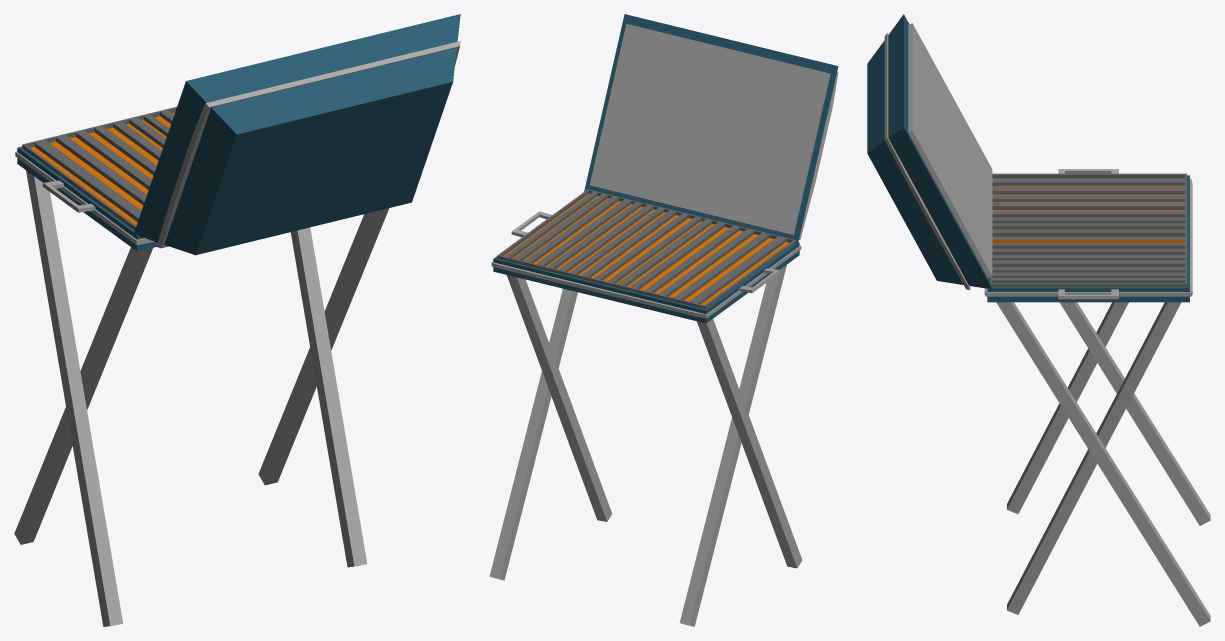
The model's file is Grill10.fbx.
3 views of the same model, side by side, from view 1: azimuth 30°, elevation 25°; view 2: azimuth 150°, elevation 25°; view 3: azimuth 270°, elevation 25° (orthographic). The views are drawn at different scales.
Parts seen in each view (by area): view 1: pCube9; view 2: pCube9; view 3: pCube9.
Part boxes in pixels (bbox=[...]): pCube9: bbox=[14, 14, 460, 626]; pCube9: bbox=[489, 14, 838, 626]; pCube9: bbox=[867, 14, 1210, 626].
Bounding box in the file's own units: 20.53 × 37.74 × 23.37.
